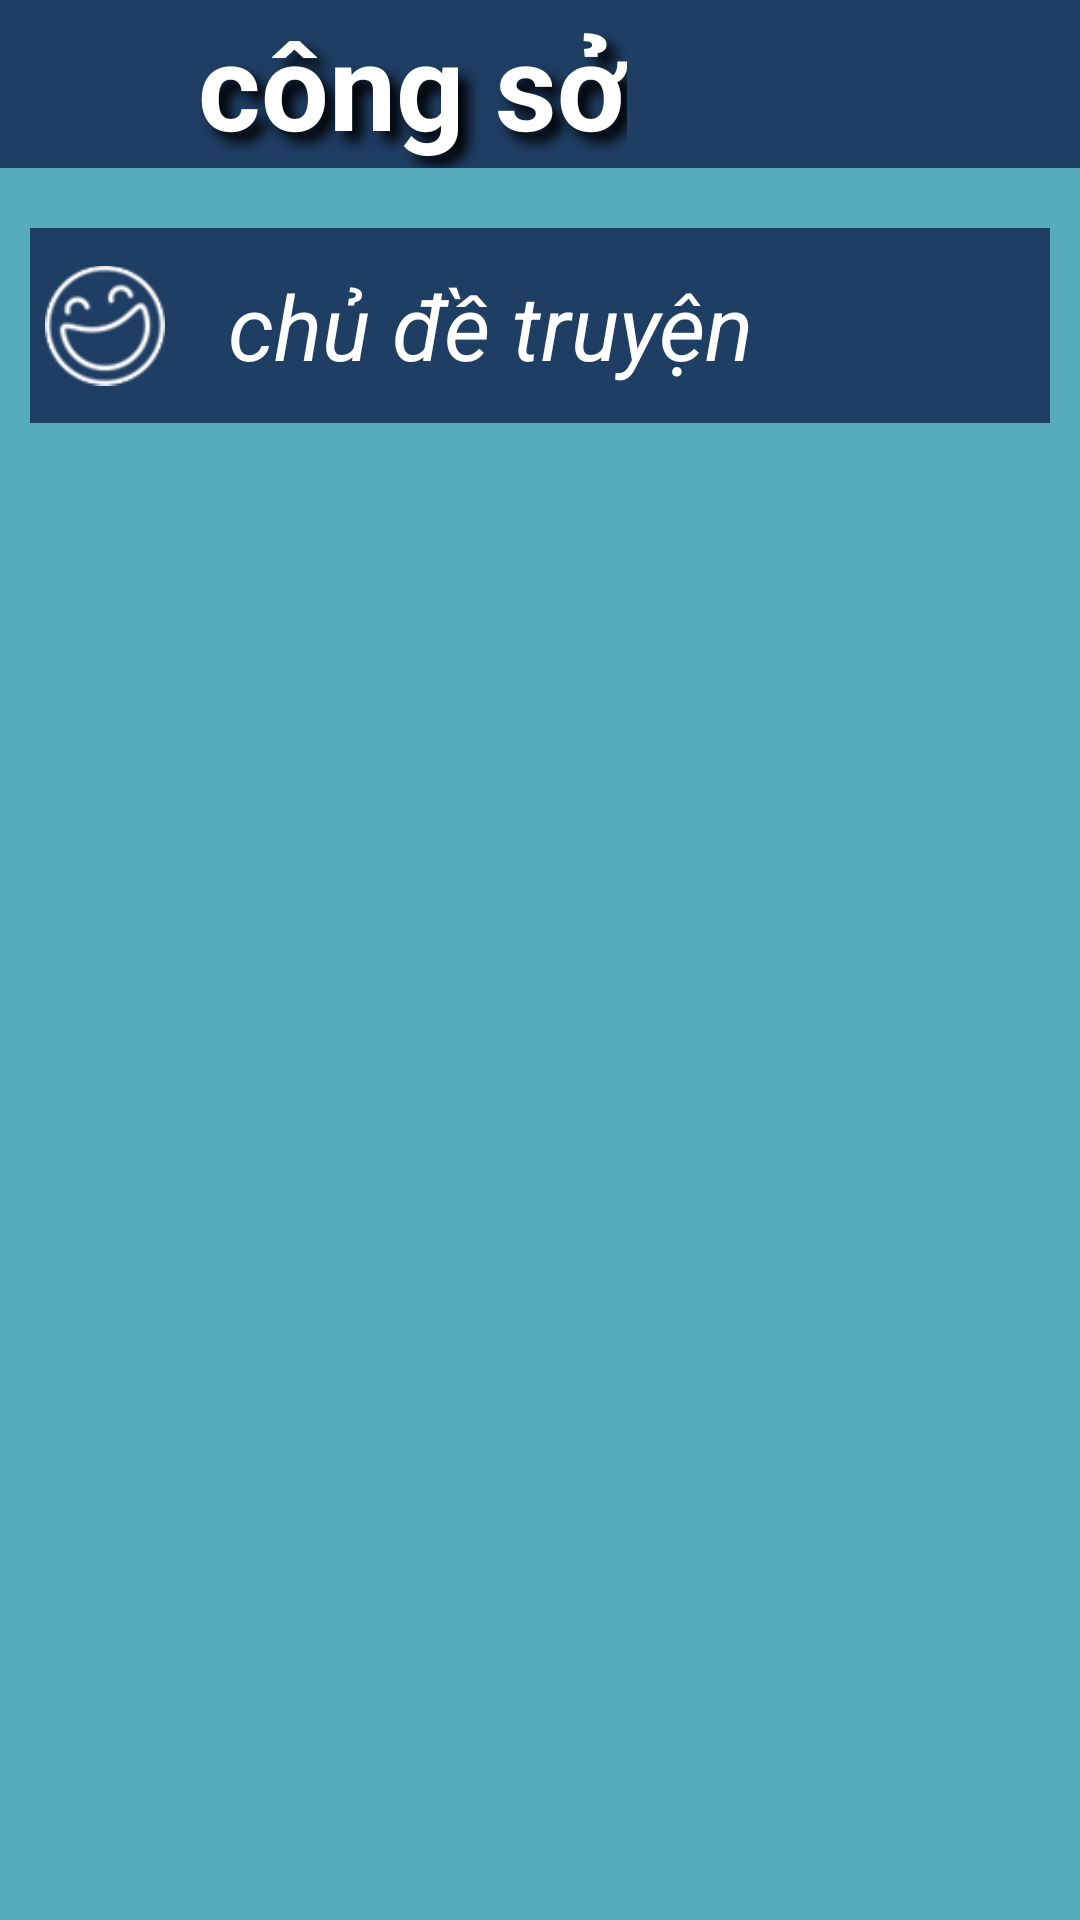

Where icons sit on this 1080×1920 app screen, as [left=x1, top=y1, right=x2, bottom=y2]:
smile: [left=45, top=266, right=165, bottom=386]
